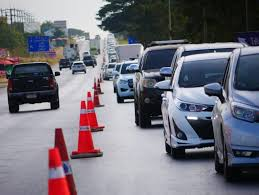car: (165, 52, 232, 159), (215, 45, 259, 179), (136, 44, 177, 127), (8, 62, 61, 111), (116, 60, 138, 104), (72, 61, 86, 74), (58, 59, 72, 70)
cone: (54, 127, 78, 195), (72, 101, 100, 152), (47, 148, 68, 194), (81, 92, 103, 128), (92, 86, 102, 103)
